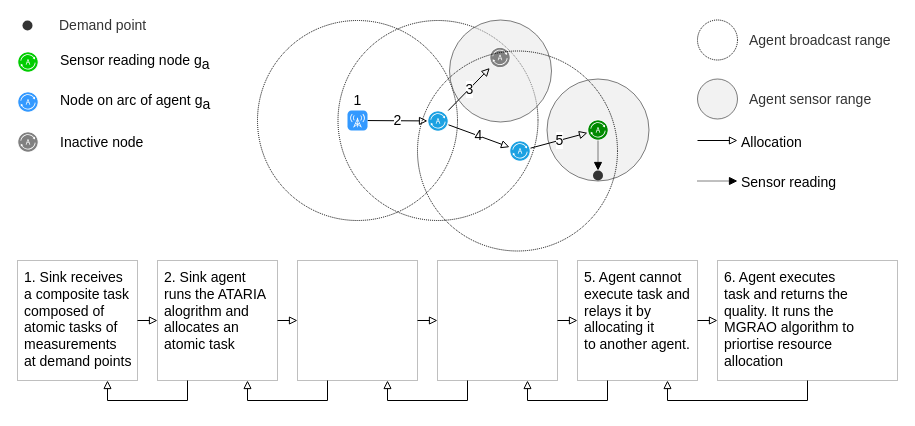
This 915x426 diagram has some shape labels left out. The shapes that lost their labels are listed below. From the top down, each one's centre as x and y in pixels, then its label:
At point (357, 120): "g sink".
At point (597, 129): "g a".
At point (357, 320): "3. Agent allocation to agent fails as its not within range of the demand point".
At point (497, 320): "4. Agent allocates task using the ATARIA algorithm".
